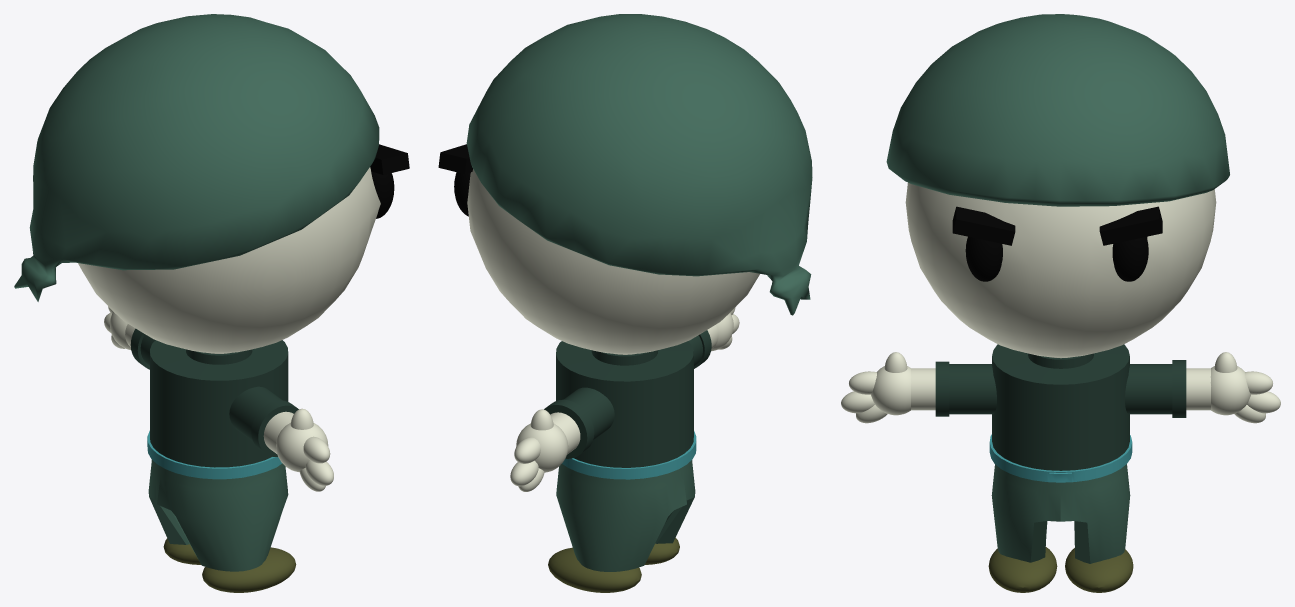
Rendered from Enemy.fbx.
3 views of the same model, side by side, from view 1: azimuth 30°, elevation 25°; view 2: azimuth 150°, elevation 25°; view 3: azimuth 270°, elevation 25° (orthographic).
Visible parts, largest first — view 1: Sphere, Enemy, Enemy.001, Cylinder, Enemy.002, Cylinder.001, Enemy.003; view 2: Sphere, Enemy, Enemy.001, Cylinder, Enemy.002, Cylinder.001, Enemy.003; view 3: Sphere, Enemy, Enemy.001, Cylinder, Enemy.003, Enemy.002, Cylinder.001.
Part boxes in pixels (bbox=[...]): Sphere: bbox=[14, 14, 379, 301]; Enemy: bbox=[78, 167, 380, 491]; Enemy.001: bbox=[130, 328, 298, 467]; Cylinder: bbox=[148, 459, 288, 571]; Enemy.002: bbox=[163, 538, 296, 592]; Cylinder.001: bbox=[147, 430, 282, 479]; Enemy.003: bbox=[370, 144, 409, 218]; Sphere: bbox=[466, 14, 812, 315]; Enemy: bbox=[467, 169, 759, 491]; Enemy.001: bbox=[544, 330, 711, 467]; Cylinder: bbox=[556, 460, 695, 571]; Enemy.002: bbox=[548, 537, 679, 592]; Cylinder.001: bbox=[562, 431, 696, 479]; Enemy.003: bbox=[438, 144, 472, 216]; Sphere: bbox=[886, 14, 1229, 206]; Enemy: bbox=[841, 182, 1280, 423]; Enemy.001: bbox=[935, 344, 1186, 470]; Cylinder: bbox=[991, 464, 1130, 563]; Enemy.003: bbox=[952, 206, 1162, 281]; Enemy.002: bbox=[988, 547, 1133, 592]; Cylinder.001: bbox=[989, 434, 1132, 482].
Size of the model in its own units: 414 by 665 by 490.
6 materials, 6 textured.
